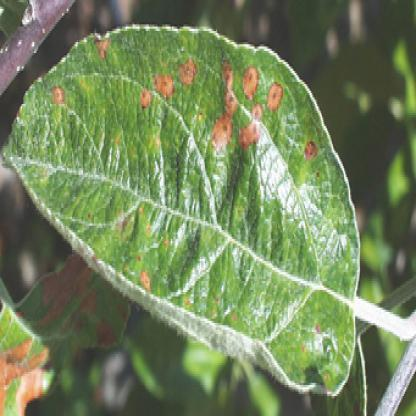Apple rust leaf: (8, 22, 364, 403)
